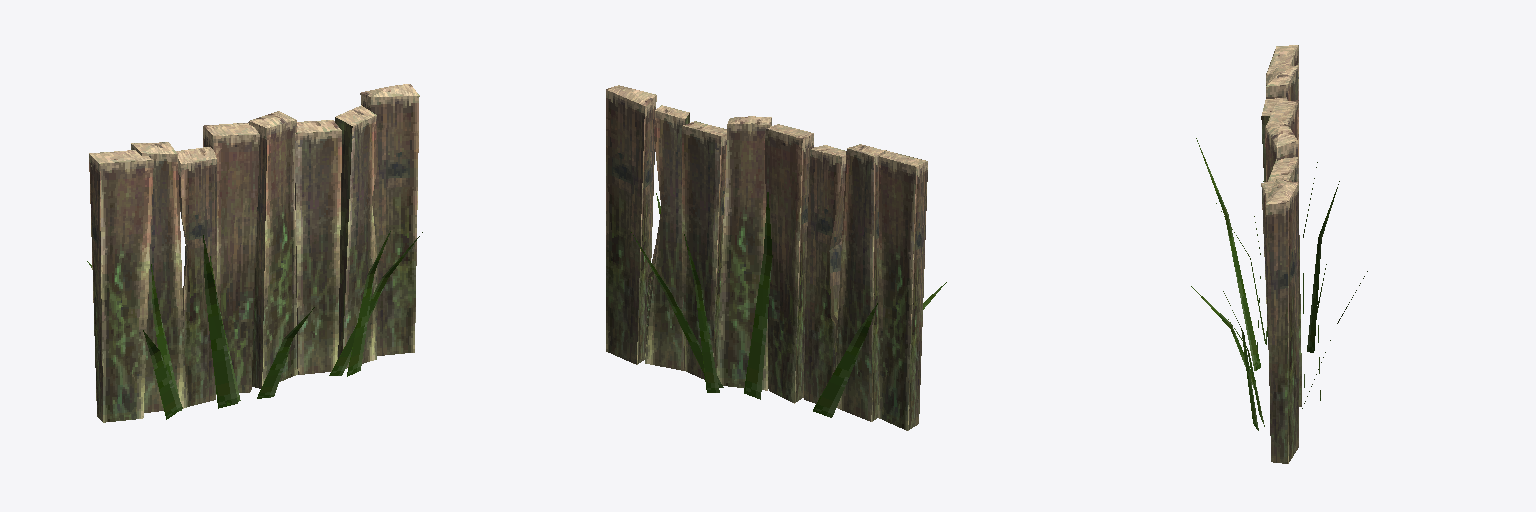
3 renders of one model, left to right at view 1: azimuth 30°, elevation 25°; view 2: azimuth 150°, elevation 25°; view 3: azimuth 270°, elevation 25°, orthographic.
Parts seen in each view (by area): view 1: Node 0; view 2: Node 0; view 3: Node 0.
Boxes of the visible parts, x1,y1,x2,y2 form: Node 0: [87, 84, 422, 422]; Node 0: [606, 85, 946, 430]; Node 0: [1191, 45, 1367, 463].
Bounding box in the file's own units: 4.9 × 4.01 × 2.46.
2 materials, 2 textured.